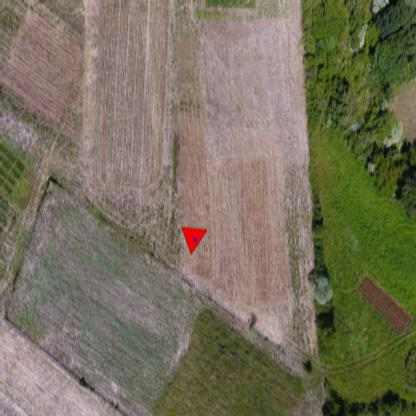triangle: (181, 226, 208, 256)
